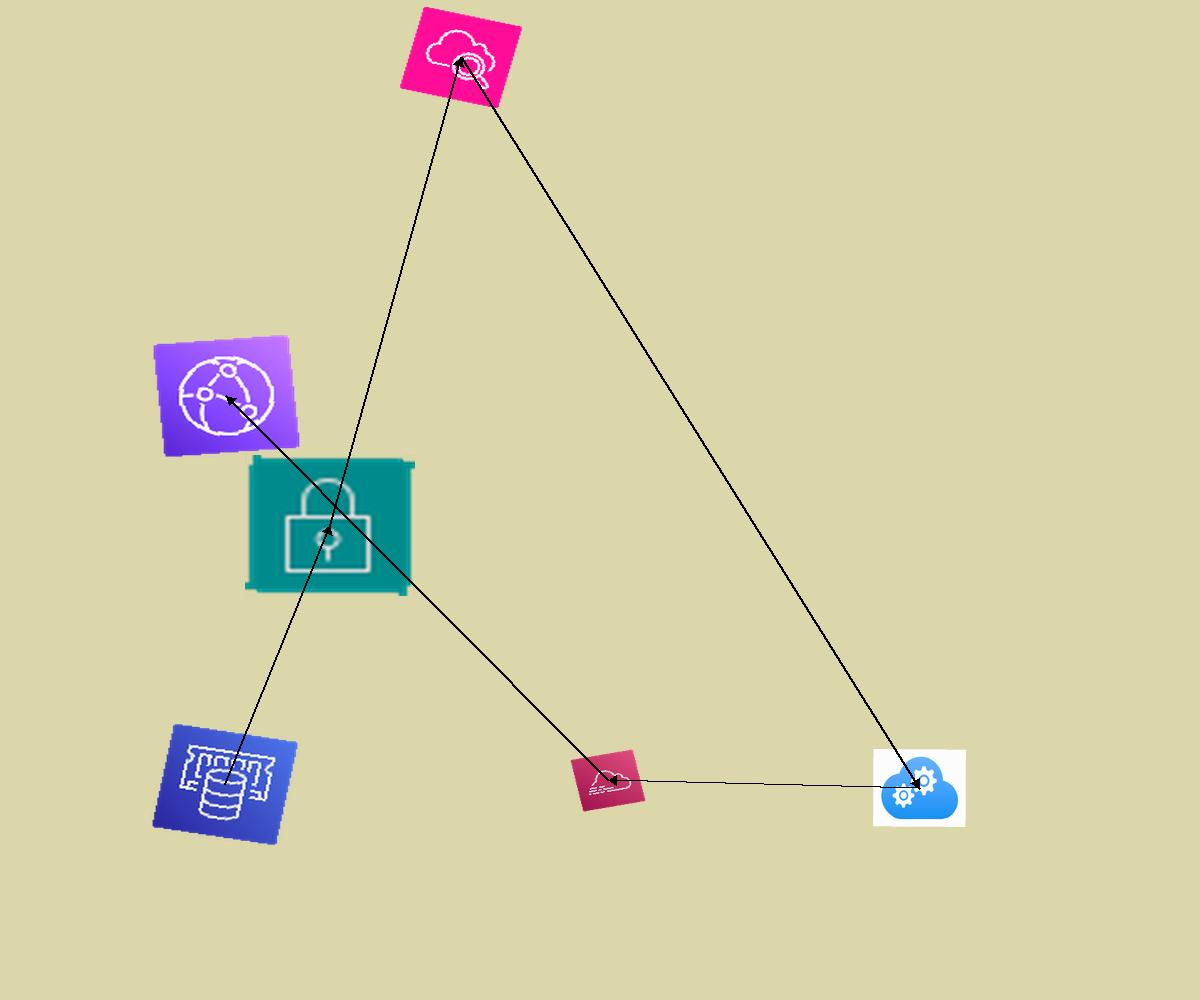AWS-CloudFront: (152, 334, 301, 458)
AWS-CloudTrail: (570, 749, 646, 812)
AWS-CloudWatch: (399, 6, 523, 109)
AWS-ElastiCache: (151, 723, 299, 846)
AWS-Private-subnet: (245, 455, 415, 596)
Azure_cloud_services: (873, 749, 966, 827)
